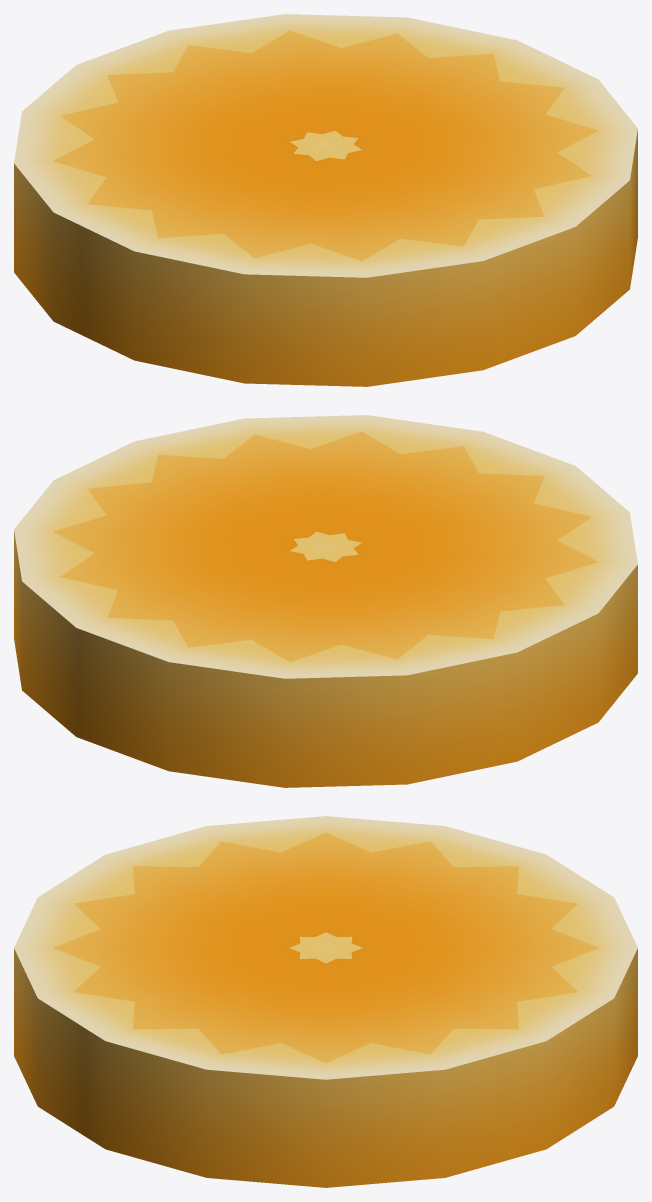
The model's file is Fbx_Fruit_OrangePart.fbx_Slice.fbx.
3 views of the same model, one above another, from view 1: azimuth 30°, elevation 25°; view 2: azimuth 150°, elevation 25°; view 3: azimuth 270°, elevation 25° (orthographic).
Visible parts, largest first — view 1: Fruit Slice; view 2: Fruit Slice; view 3: Fruit Slice.
Part boxes in pixels (x1,y1,x2,y2): Fruit Slice: (14,14,637,386); Fruit Slice: (14,415,637,787); Fruit Slice: (14,816,637,1187).
Size of the model in its own units: 2 by 0.3827 by 2.
